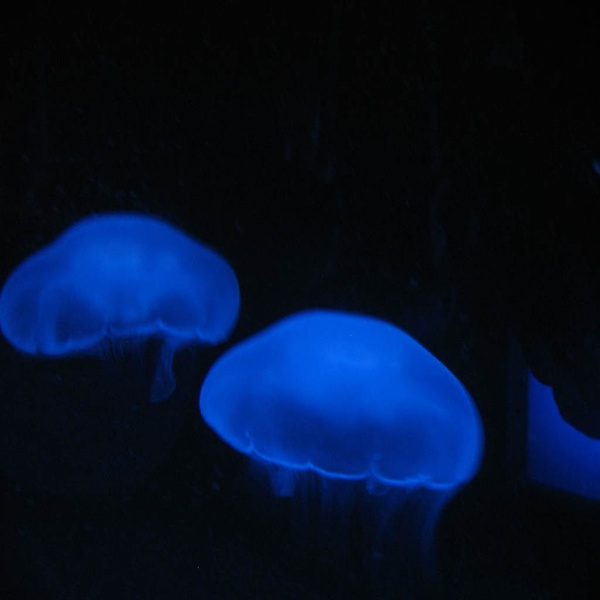Jellyfish: (197, 308, 483, 588), (0, 215, 237, 393), (0, 218, 244, 388)
